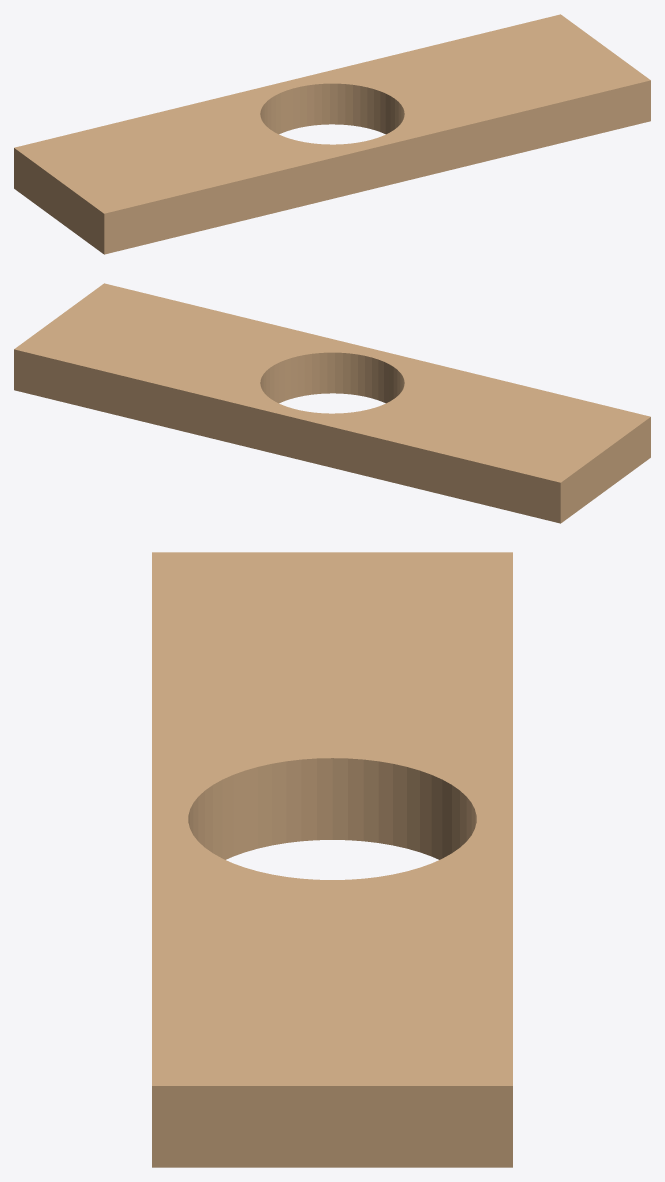
Rendered from starter-solenoid-contact-bridge.glb.
The picture shows the model from 3 angles, top to bottom: view 1: azimuth 30°, elevation 25°; view 2: azimuth 150°, elevation 25°; view 3: azimuth 270°, elevation 25°; orthographic projection. The views are drawn at different scales.
Visible parts, largest first — view 1: world; view 2: world; view 3: world.
Part boxes in pixels (x1=…): world: x1=14, y1=14, x2=650, y2=254; world: x1=14, y1=283, x2=650, y2=523; world: x1=152, y1=552, x2=512, y2=1167.
Bounding box in the file's own units: 0.028 × 0.002 × 0.008.
